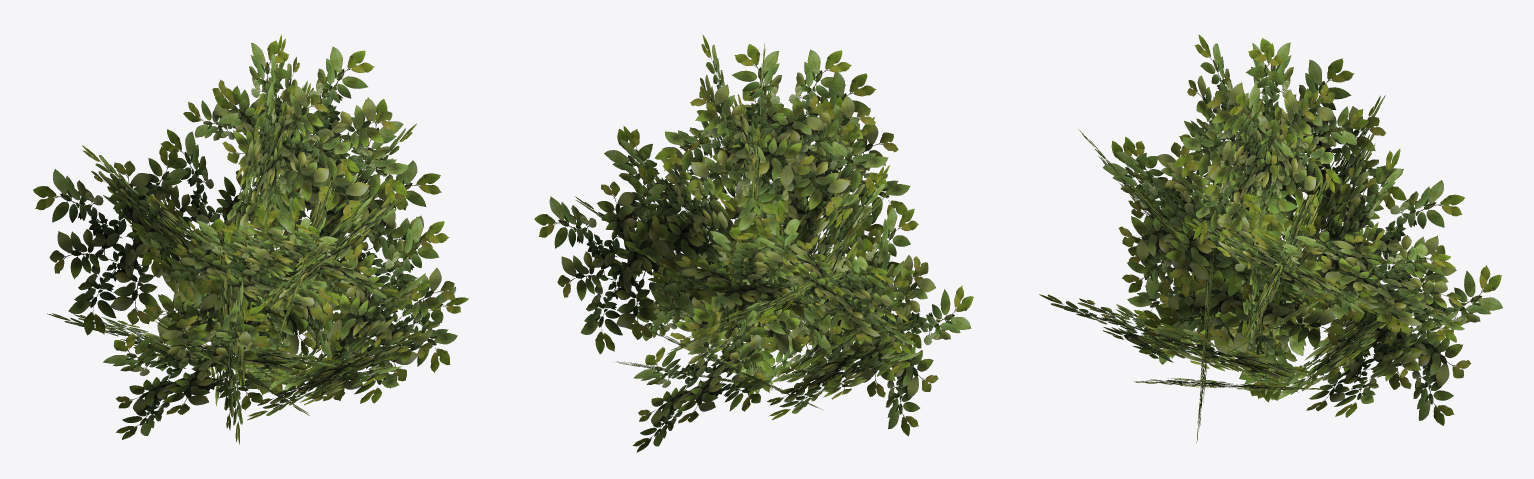
File: shrub_a.glb
3 renders of one model, left to right at view 1: azimuth 30°, elevation 25°; view 2: azimuth 150°, elevation 25°; view 3: azimuth 270°, elevation 25°, orthographic. The views are drawn at different scales.
Parts seen in each view (by area): view 1: Polygon.2; view 2: Polygon.2; view 3: Polygon.2.
Part boxes in pixels (x1,y1,x2,y2): Polygon.2: [33, 34, 468, 444]; Polygon.2: [534, 34, 973, 452]; Polygon.2: [1039, 34, 1502, 442].
Bounding box in the file's own units: 1.33 × 1.24 × 1.42.
1 material, 1 textured.
